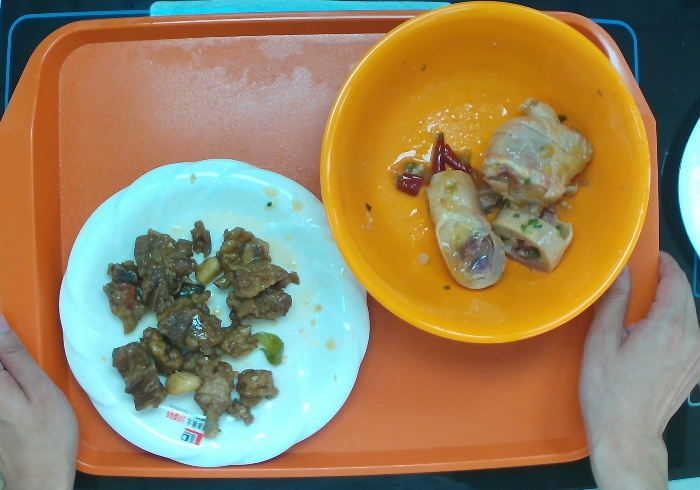ZNLD-Hua_Bian_Wan: (52, 150, 375, 470)
ZNLD-Ju_Se_Tang_Wan: (317, 1, 656, 349)
